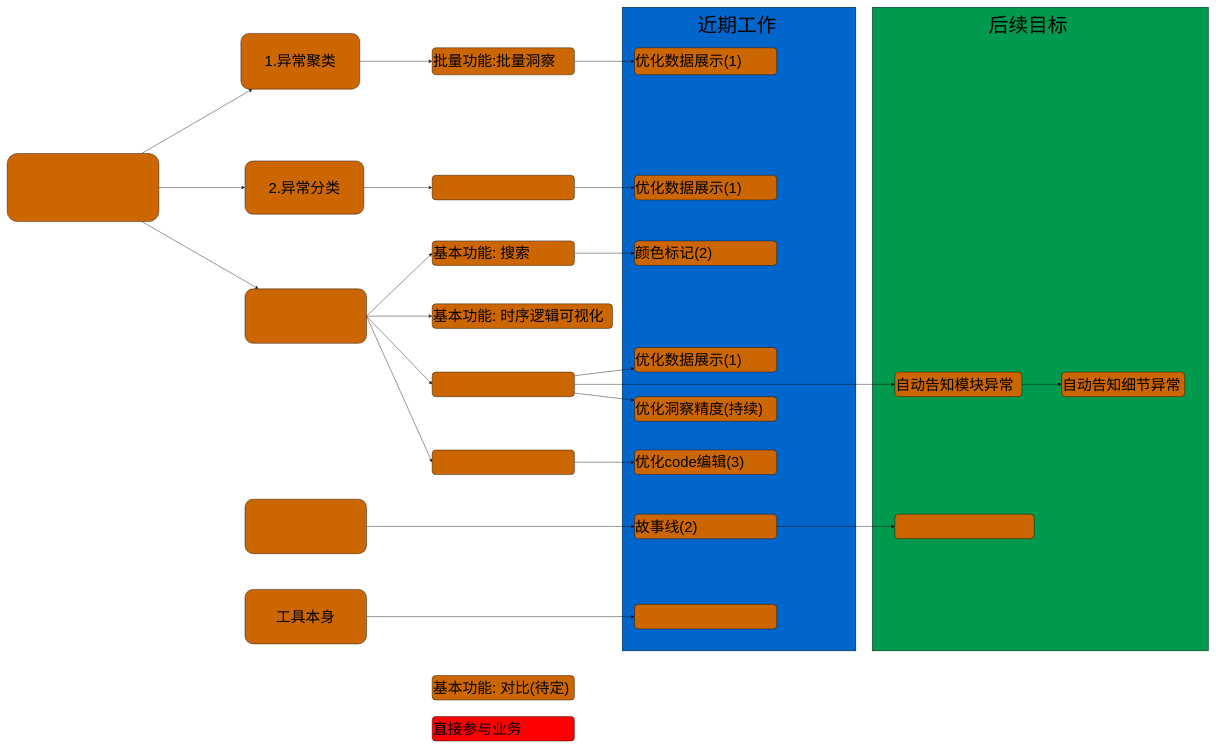
The diagram is 1216 pixels wide and 748 high, and some of its shapes have lost their labels. The centre of each missing label's shape, as x and y in pixels:
"3.单日志找 Root Cause" goes at pixel 305 315.
"Customer Site TroubleShooting 流程" goes at pixel 83 187.
"业务功能" goes at pixel 305 526.
"基本功能: 洞察" goes at pixel 503 384.
"基本功能: 统计" goes at pixel 503 462.
"批量功能: 批量统计" goes at pixel 503 187.
"模块独立故事线" goes at pixel 964 526.
"自动化测试" goes at pixel 705 616.
